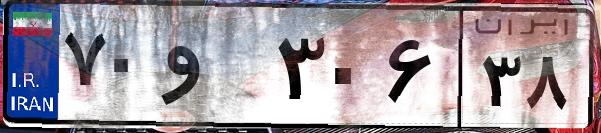0: (330, 28, 385, 110), (110, 28, 158, 98)
3: (270, 28, 330, 110), (475, 38, 525, 113)
6: (385, 28, 445, 110)
7: (57, 26, 110, 100)
8: (525, 38, 570, 115)
و: (158, 20, 270, 120)
